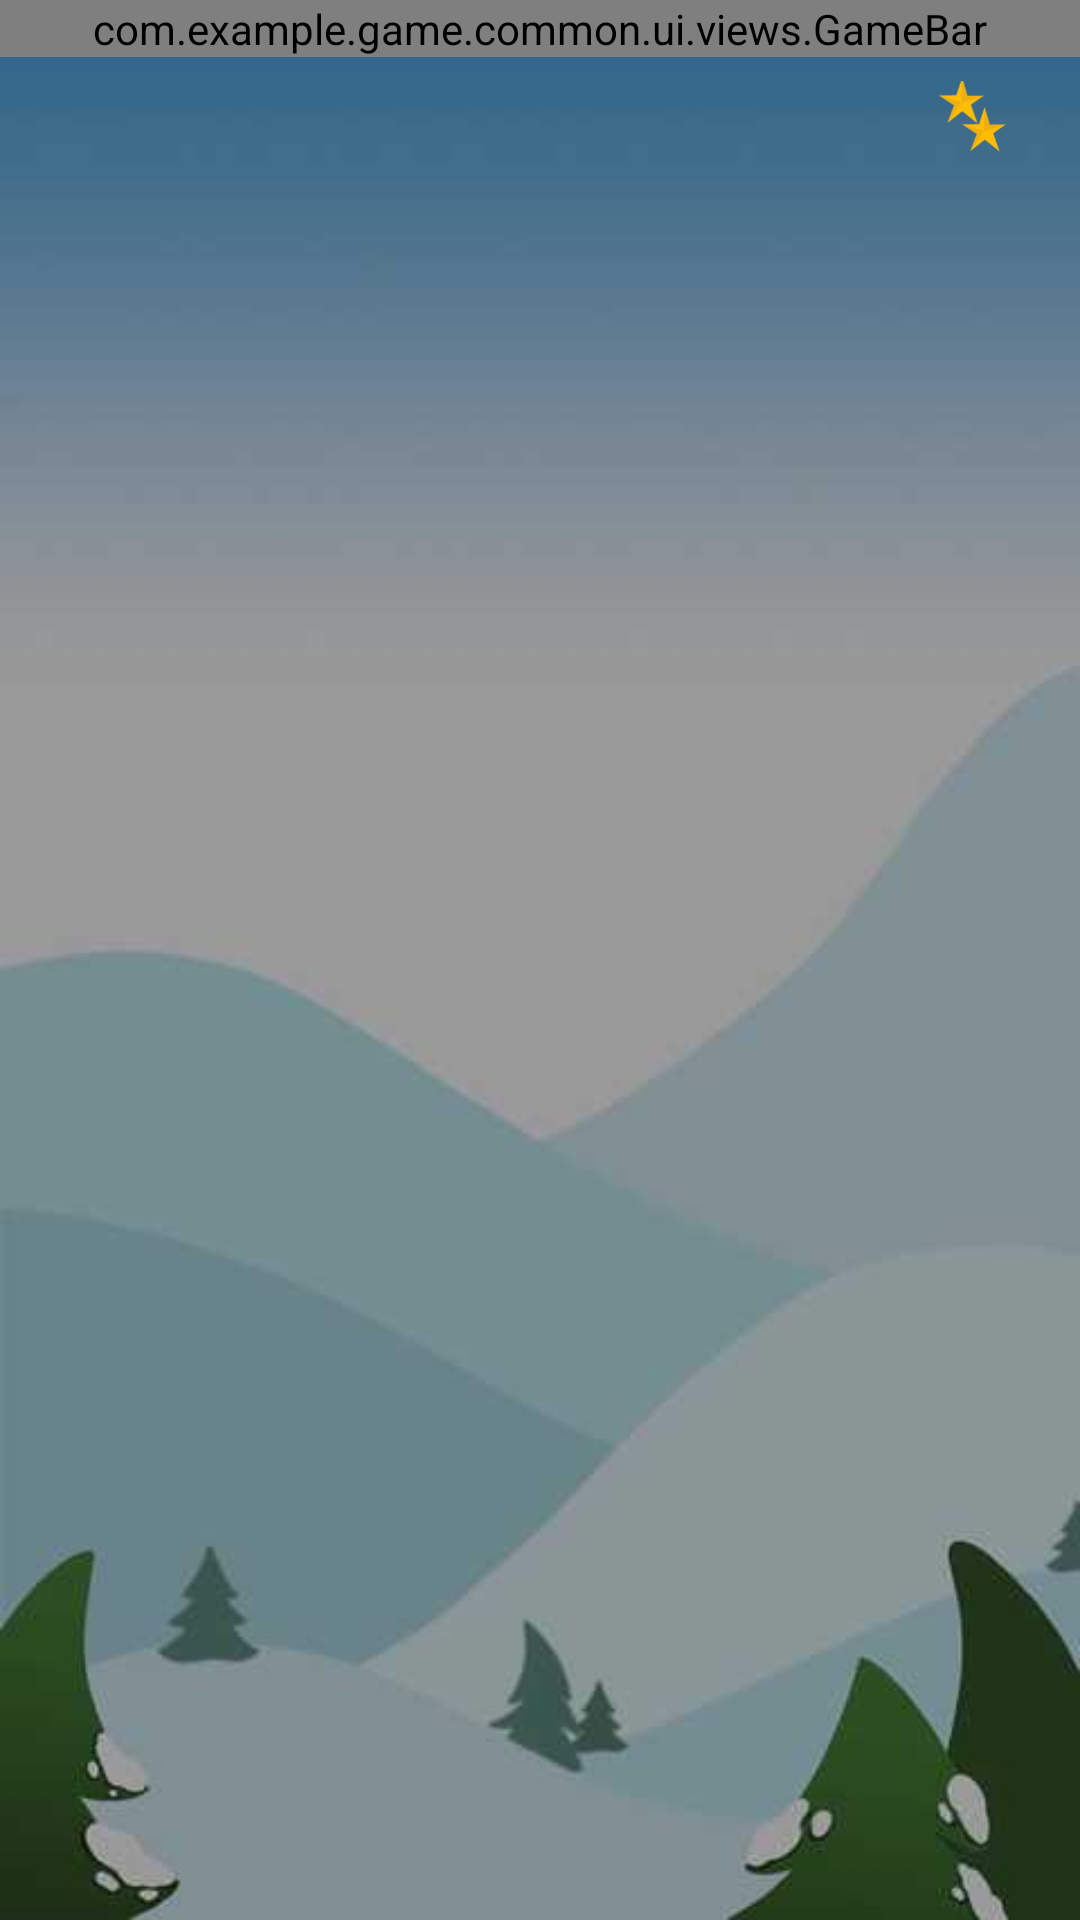

Named icons in this screenshot (1080w x 1920h) and their centers, (x,y):
two star: (972,116)
